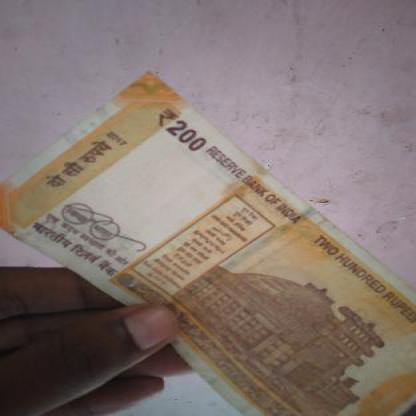New200Back: (1, 75, 415, 416)
